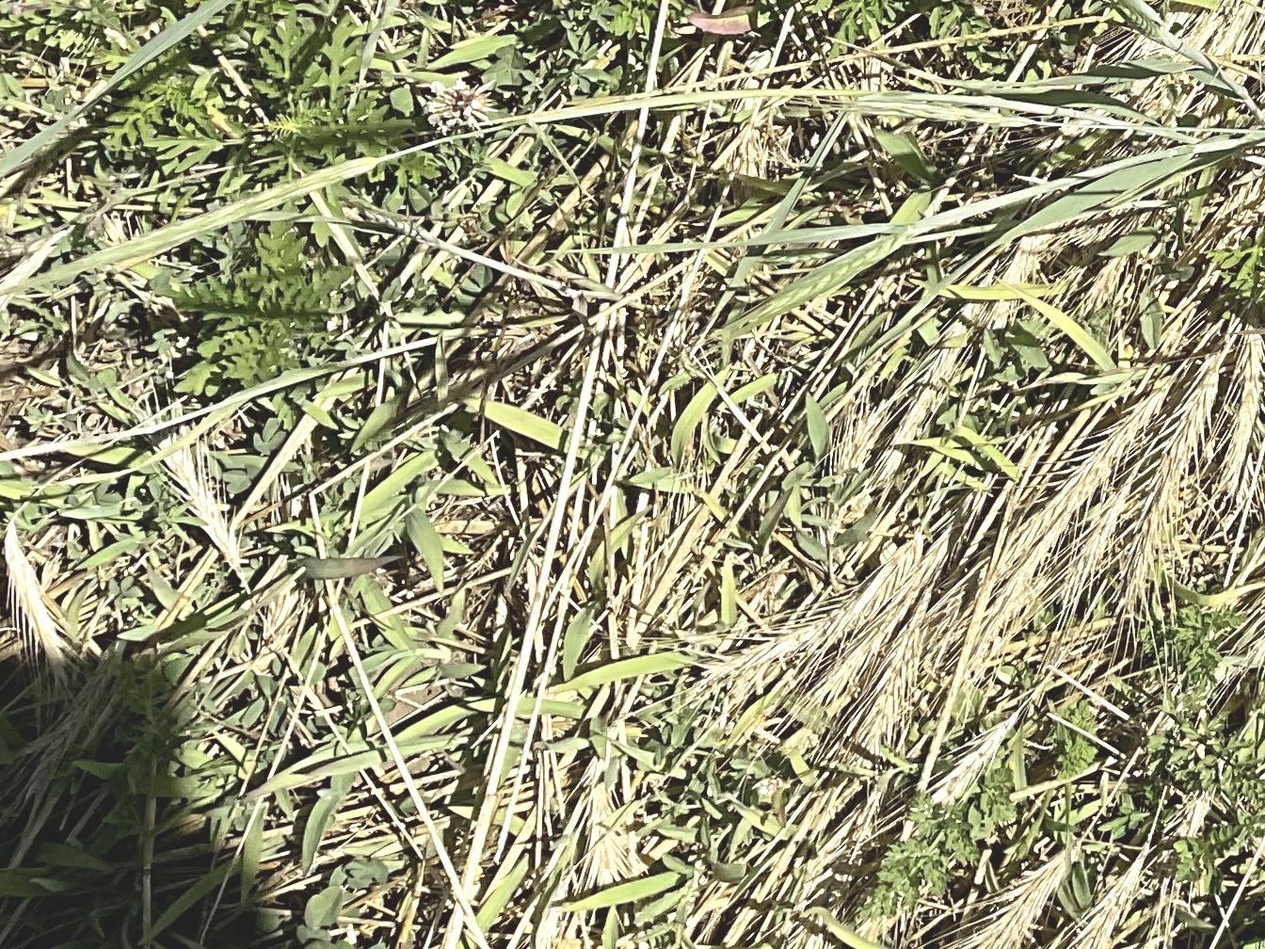AMBEL: (243, 51, 443, 196), (170, 220, 341, 379), (100, 56, 221, 158)
